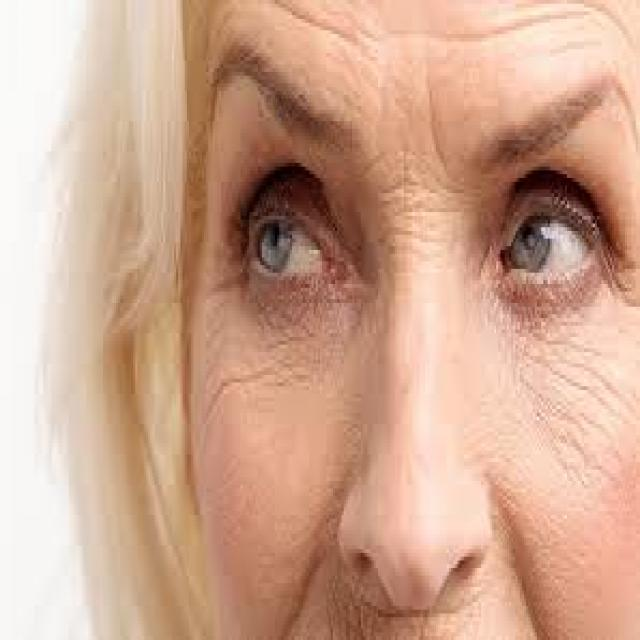Wrinkles: (285, 3, 637, 59), (533, 339, 638, 418), (202, 360, 282, 435)
